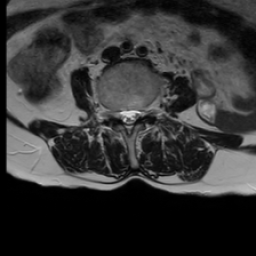CCS_normal: (125, 102, 132, 140)
LFS_normal: (140, 99, 149, 125)
LLS_normal: (132, 100, 140, 130)
RFS_normal: (111, 100, 118, 126)
RLS_normal: (118, 101, 125, 131)
